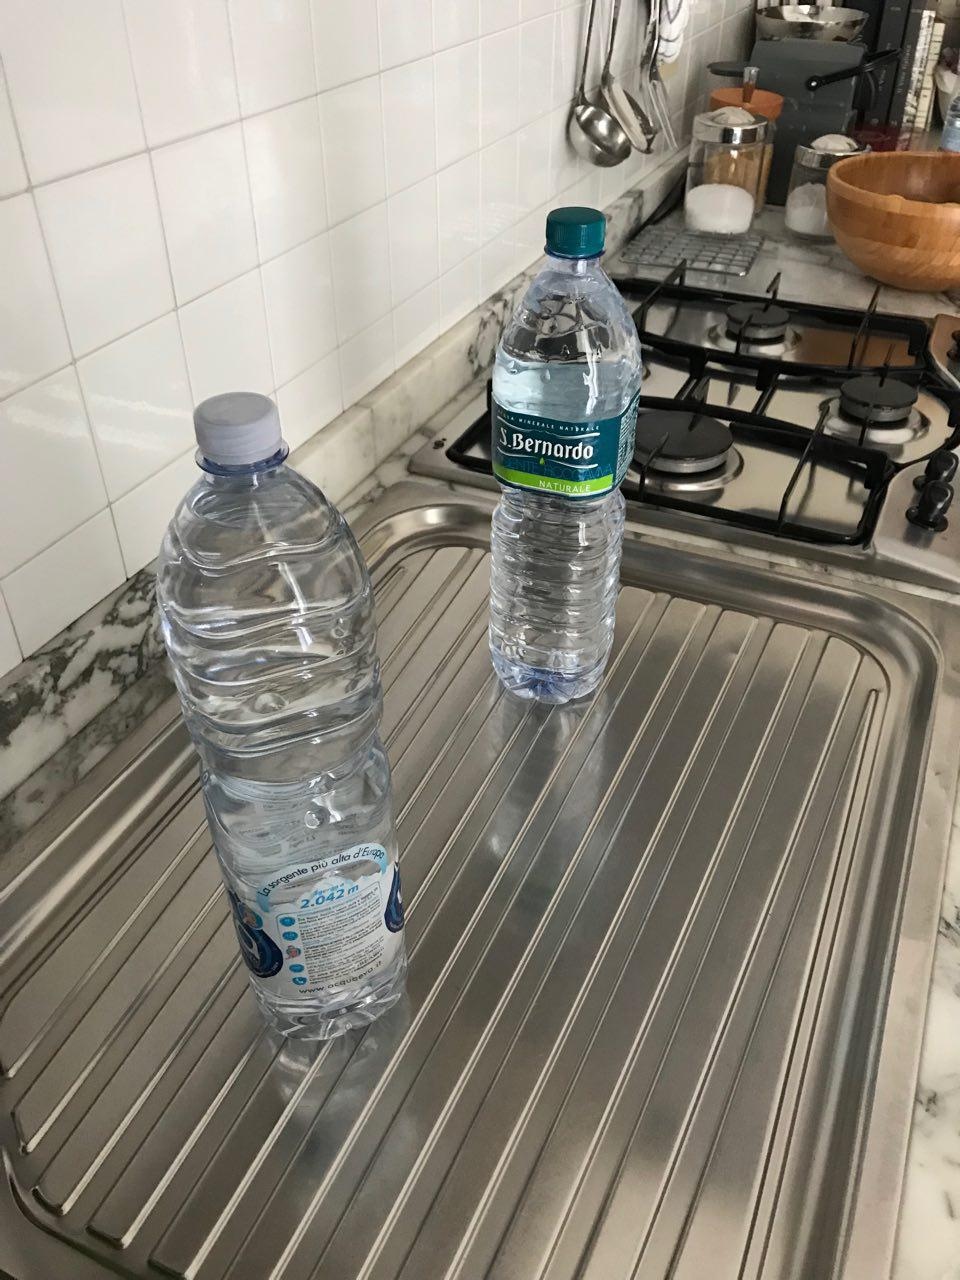san_bernardo: (486, 205, 642, 706)
